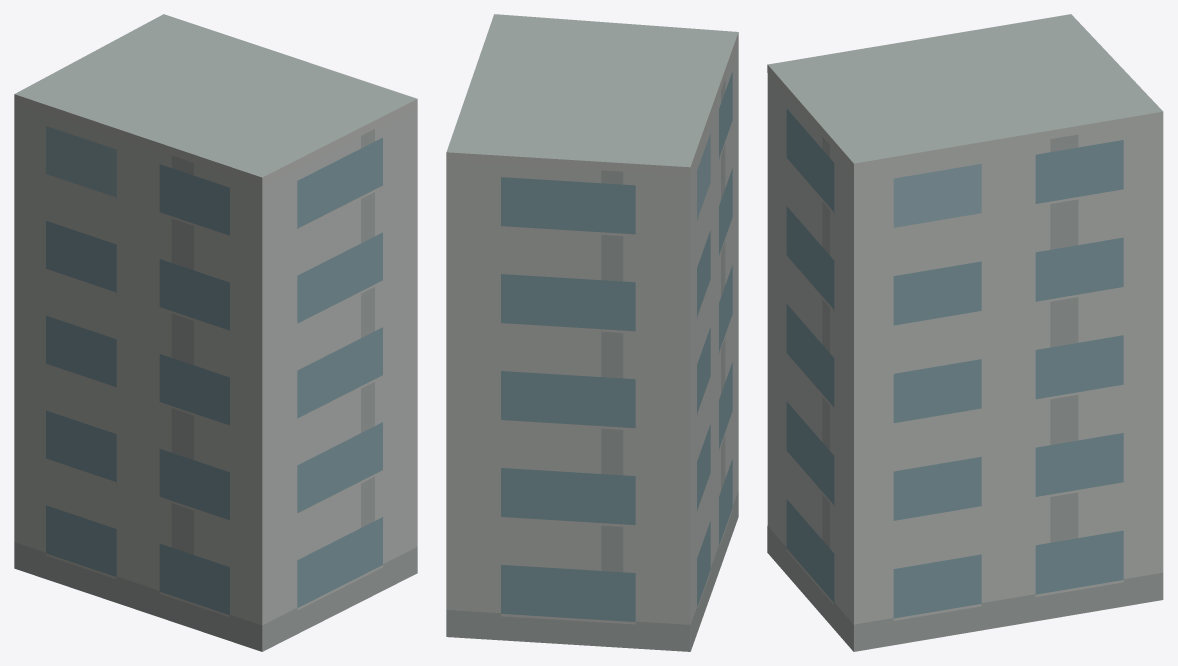
Rendered from survey-upis-33041457.glb.
The picture shows the model from 3 angles, left to right: view 1: azimuth 30°, elevation 25°; view 2: azimuth 150°, elevation 25°; view 3: azimuth 270°, elevation 25°; orthographic projection. The views are drawn at different scales.
Visible parts, largest first — view 1: survey-upis-33041457.tmp; view 2: survey-upis-33041457.tmp; view 3: survey-upis-33041457.tmp.
Boxes of the visible parts, x1=… form: survey-upis-33041457.tmp: x1=14, y1=14, x2=417, y2=651; survey-upis-33041457.tmp: x1=446, y1=14, x2=738, y2=651; survey-upis-33041457.tmp: x1=767, y1=14, x2=1163, y2=651.
Size of the model in its own units: 9.08 by 13.8 by 10.15.
